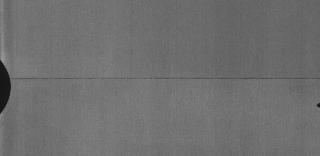punching hole: (316, 102, 320, 108)
welding line: (8, 74, 320, 84)
